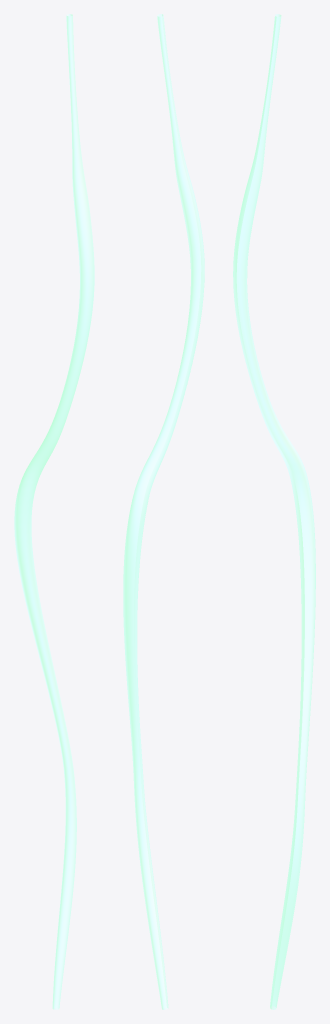
File: strand_d_supply.glb
3 renders of one model, left to right at view 1: azimuth 90°, elevation 25°; view 2: azimuth 150°, elevation 25°; view 3: azimuth 330°, elevation 25°, orthographic.
Bounding box in the file's own units: 0.5176 × 8.01 × 0.59.
